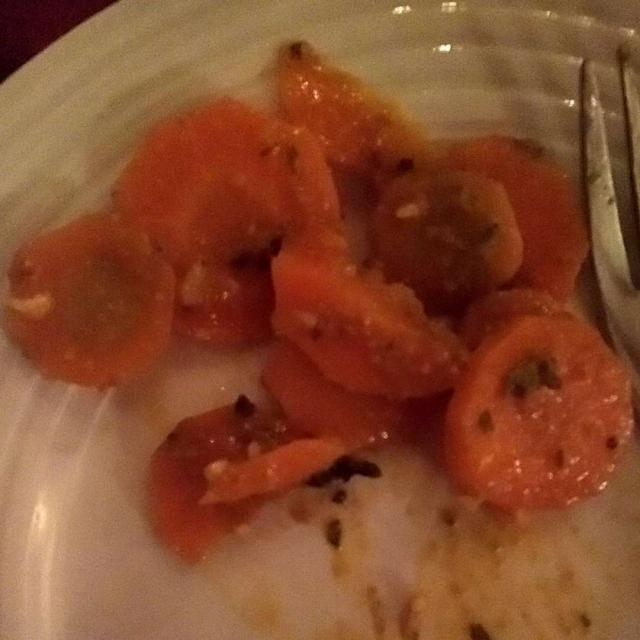carrot: (27, 50, 620, 544)
